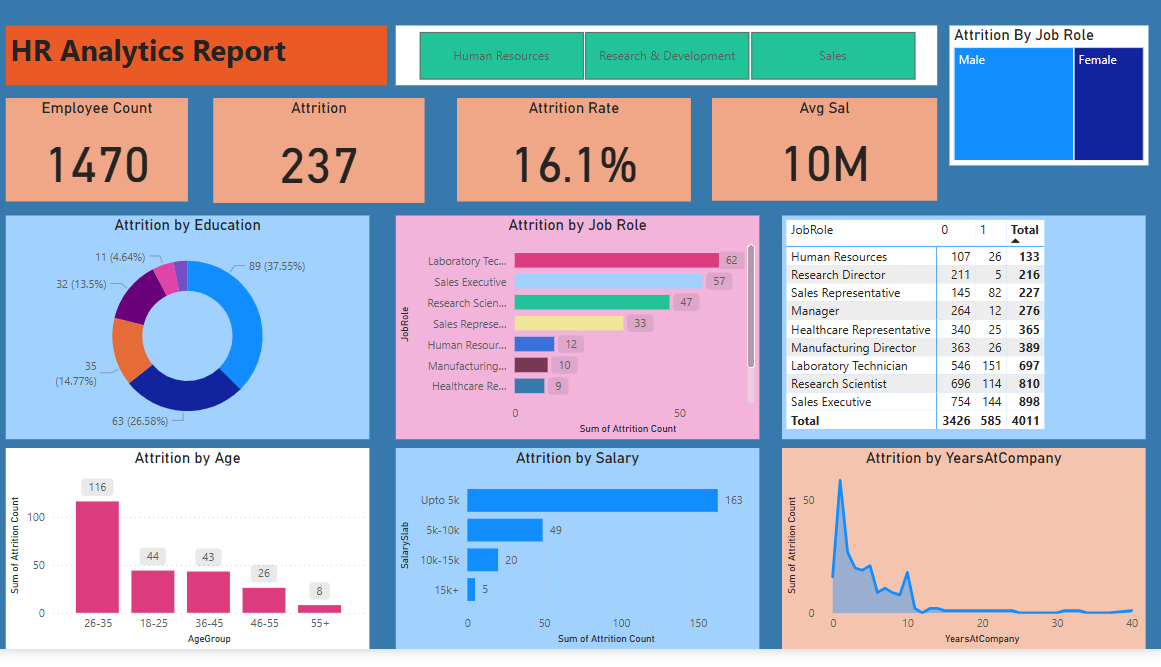

The page's visual inventory and layout, read from the dashboard file:
{"tool":"powerbi","page":{"name":"Page 1","canvas":[1280,720],"ordinal":0},"visuals":[{"type":"textbox","box":[9.6,35.7,418.5,65.9],"z":0},{"type":"slicer","fields":{"Values":["HR_Analytics.Department"]},"box":[437.7,35.7,594.2,65.9],"z":1000},{"type":"treemap","title":"Attrition By Job Role","fields":{"Group":["HR_Analytics.Gender"],"Values":["Sum(HR_Analytics.Attrition Count)"]},"box":[1045.6,35.7,218.2,153.7],"z":2000},{"type":"card","title":"Employee Count","fields":{"Values":["Sum(HR_Analytics.EmployeeCount)"]},"box":[9.6,115.3,200.3,113.9],"z":3000},{"type":"card","title":"Attrition ","fields":{"Values":["Sum(HR_Analytics.Attrition Count)"]},"box":[237.4,115.3,231.9,115.3],"z":4000},{"type":"card","title":"Attrition Rate","fields":{"Values":["HR_Analytics.Attrition Rate"]},"box":[505,115.3,256.6,113.9],"z":5000},{"type":"card","title":"Avg Sal","fields":{"Values":["Sum(HR_Analytics.MonthlyIncome)"]},"box":[784.9,115.3,247,112.5],"z":7000},{"type":"donutChart","title":"Attrition by Education","fields":{"Y":["Sum(HR_Analytics.Attrition Count)"],"Category":["HR_Analytics.EducationField"]},"box":[9.6,244.3,399.3,245.6],"z":9000},{"type":"barChart","title":"Attrition by Job Role","fields":{"Y":["Sum(HR_Analytics.Attrition Count)"],"Category":["HR_Analytics.JobRole"]},"box":[437.7,244.3,399.3,245.6],"z":10000},{"type":"pivotTable","fields":{"Rows":["HR_Analytics.JobRole"],"Columns":["HR_Analytics.Attrition Count"],"Values":["Sum(HR_Analytics.JobSatisfaction)"]},"box":[861.8,244.3,399.3,245.6],"z":11000},{"type":"columnChart","title":"Attrition by Age","fields":{"Category":["HR_Analytics.AgeGroup"],"Y":["Sum(HR_Analytics.Attrition Count)"]},"box":[9.6,499.5,399.3,220.9],"z":12000},{"type":"barChart","title":"Attrition by Salary","fields":{"Category":["HR_Analytics.SalarySlab"],"Y":["Sum(HR_Analytics.Attrition Count)"]},"box":[438,499,399,221],"z":13000},{"type":"areaChart","title":"Attrition by YearsAtCompany","fields":{"Category":["HR_Analytics.YearsAtCompany"],"Y":["Sum(HR_Analytics.Attrition Count)"]},"box":[862,499,399,221],"z":13001}]}

Visuals, with their boxes in screenshot pixels (x1, y1, x2, y2), scaled from the page's 1280x720 canvas onto the 1161x667 screenshot:
textbox: [9, 33, 388, 94]
slicer - HR_Analytics.Department: [397, 33, 936, 94]
"Attrition By Job Role" treemap: [948, 33, 1146, 175]
"Employee Count" card: [9, 107, 190, 212]
"Attrition " card: [215, 107, 426, 214]
"Attrition Rate" card: [458, 107, 691, 212]
"Avg Sal" card: [712, 107, 936, 211]
"Attrition by Education" donutChart: [9, 226, 371, 454]
"Attrition by Job Role" barChart: [397, 226, 759, 454]
pivotTable - HR_Analytics.JobRole x HR_Analytics.Attrition Count: [782, 226, 1144, 454]
"Attrition by Age" columnChart: [9, 463, 371, 666]
"Attrition by Salary" barChart: [397, 462, 759, 666]
"Attrition by YearsAtCompany" areaChart: [782, 462, 1144, 666]
